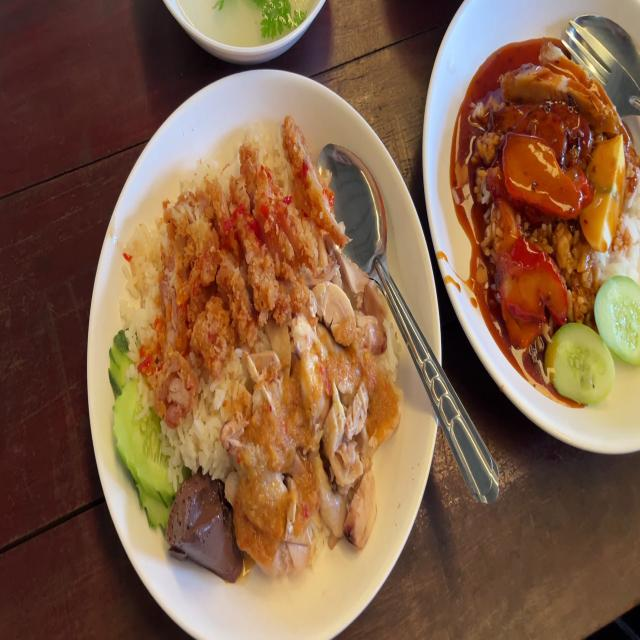boiled_chicken: (241, 259, 402, 554)
boiled_chicken_blood_jelly: (172, 474, 238, 578)
boiled_egg: (582, 134, 629, 250)
chainese_sausage: (494, 97, 592, 161)
chicken_rice: (112, 113, 403, 584)
crispy_pork: (499, 39, 621, 125)
cucumber: (111, 330, 176, 522), (546, 320, 616, 408), (595, 273, 640, 360)
fried_chicken: (142, 115, 348, 418)
red_pork: (492, 201, 572, 341), (504, 126, 584, 219)
red_pork_and_crispy_pork: (464, 38, 640, 408)
